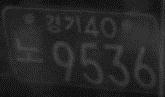0: (100, 16, 117, 40)
3: (104, 42, 131, 87)
4: (84, 15, 99, 38)
5: (80, 41, 103, 85)
6: (133, 44, 157, 91)
9: (51, 38, 75, 83)
경기_O: (44, 13, 82, 34)
노: (14, 36, 44, 64)
